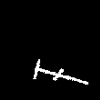double_crochet: (33, 59, 87, 83)
